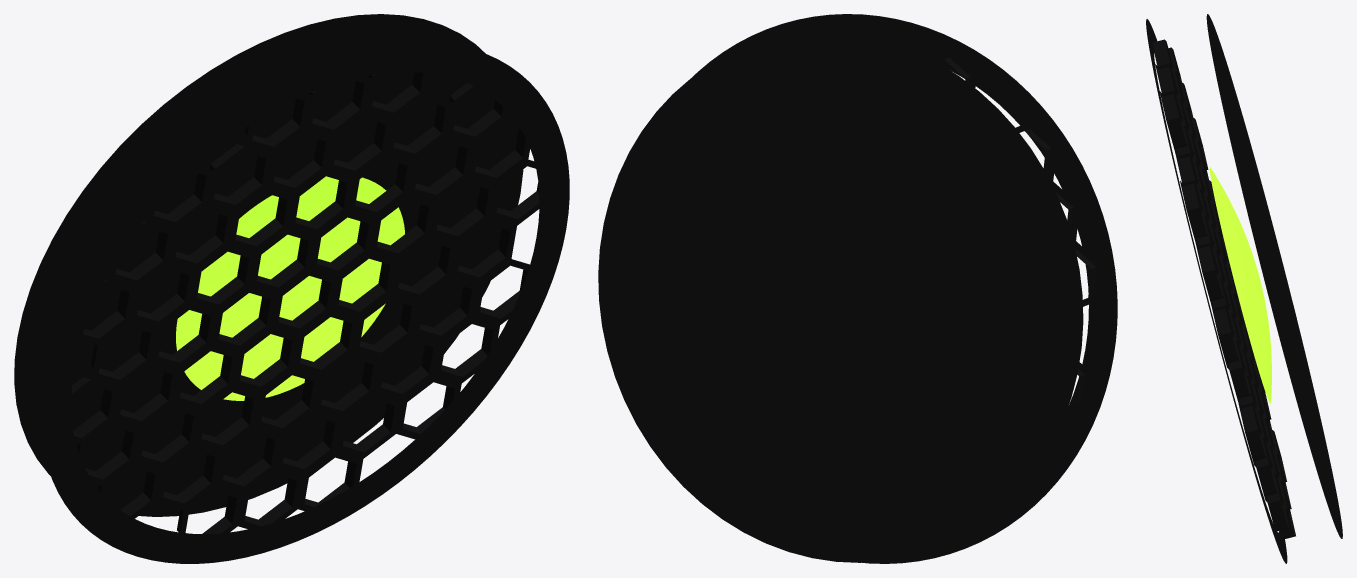
The picture shows the model from 3 angles, left to right: view 1: azimuth 30°, elevation 25°; view 2: azimuth 150°, elevation 25°; view 3: azimuth 270°, elevation 25°; orthographic projection. The views are drawn at different scales.
Visible parts, largest first — view 1: hachi_comb, hachi_back, hachi_bezel, hachi_core; view 2: hachi_back, hachi_bezel, hachi_comb; view 3: hachi_comb, hachi_back, hachi_core, hachi_bezel.
Boxes of the visible parts, <box> form: hachi_comb: <box>71,72,539,533</box>; hachi_back: <box>14,14,523,516</box>; hachi_bezel: <box>41,42,569,563</box>; hachi_core: <box>176,176,404,400</box>; hachi_back: <box>598,32,1083,562</box>; hachi_bezel: <box>692,14,1117,563</box>; hachi_comb: <box>820,27,1102,511</box>; hachi_comb: <box>1150,36,1295,545</box>; hachi_back: <box>1206,14,1342,538</box>; hachi_core: <box>1209,167,1271,403</box>; hachi_bezel: <box>1146,19,1287,563</box>.
Size of the model in its own units: 1.66 by 1.62 by 0.5807.
